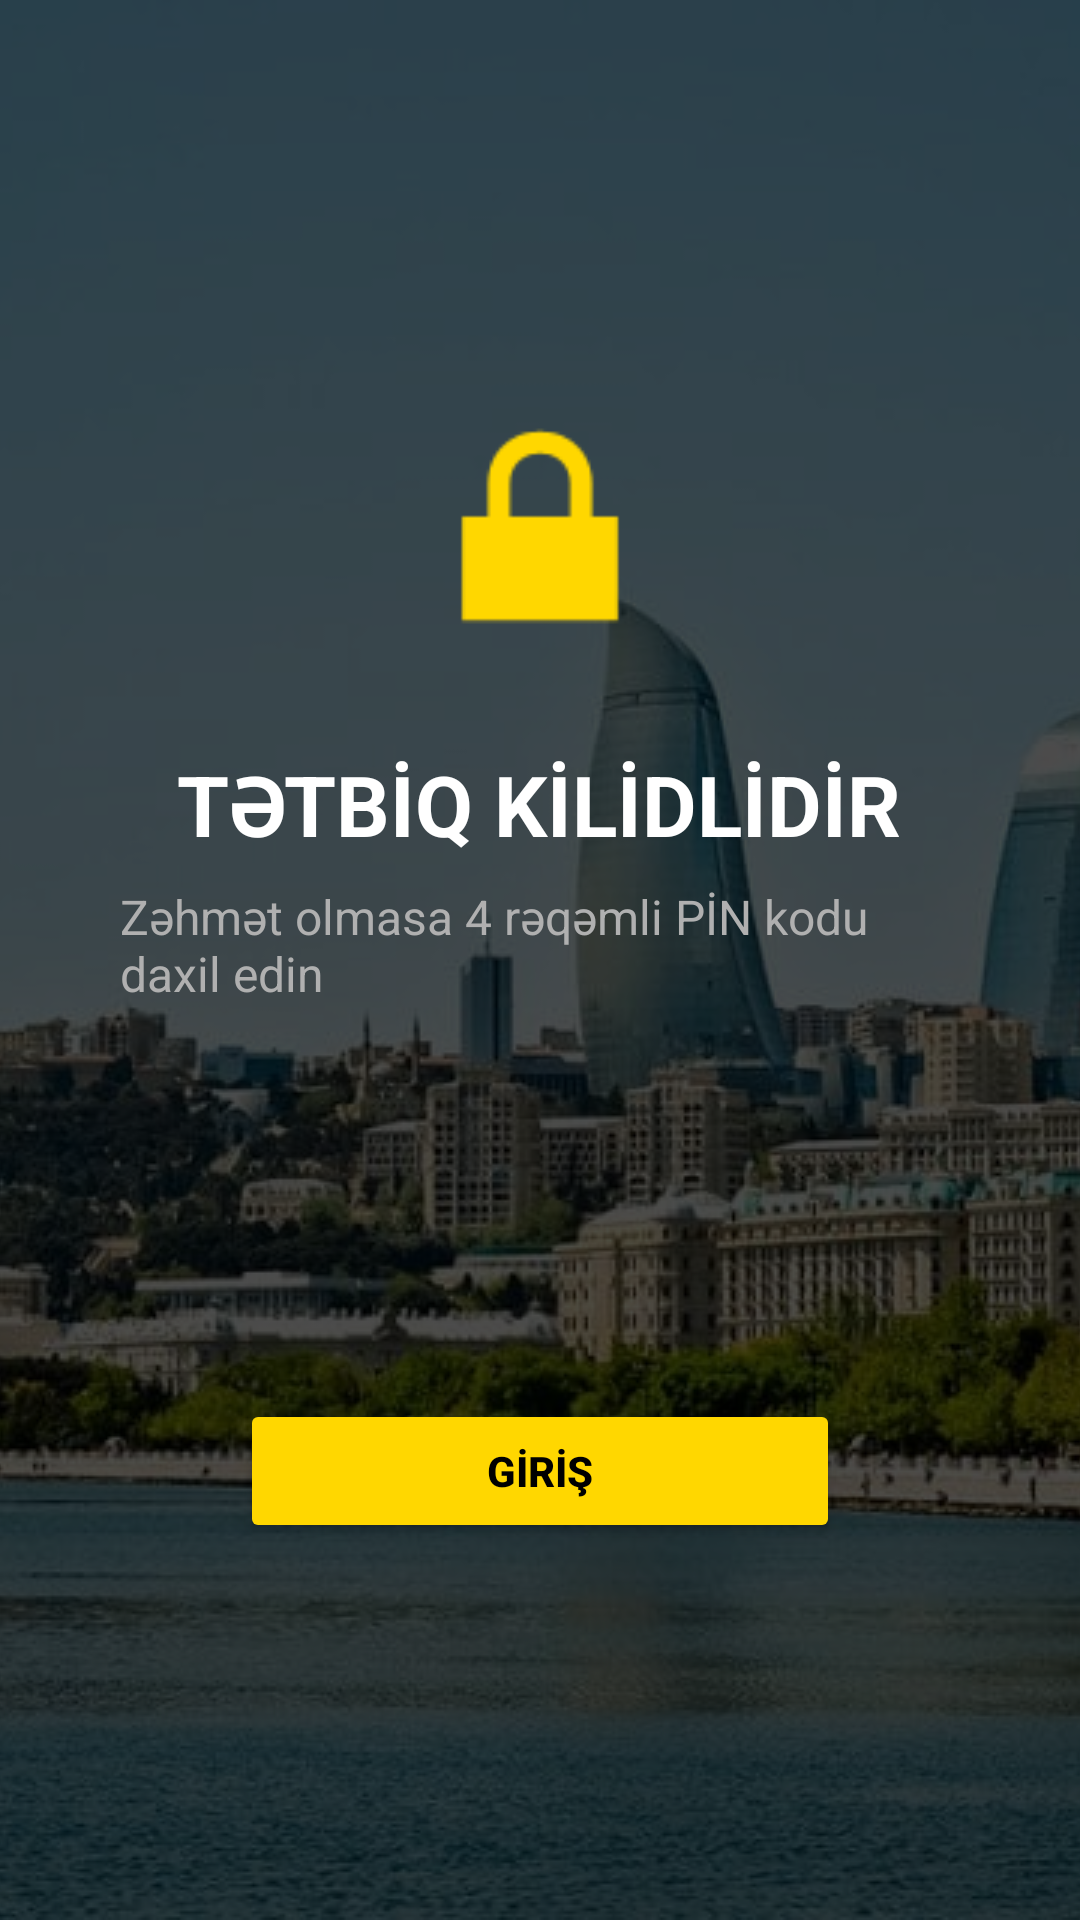

Where icons sit on this 1080w x 1920h app screen, as (x1, y1, x2, y2):
lock: (461, 429, 690, 676)
